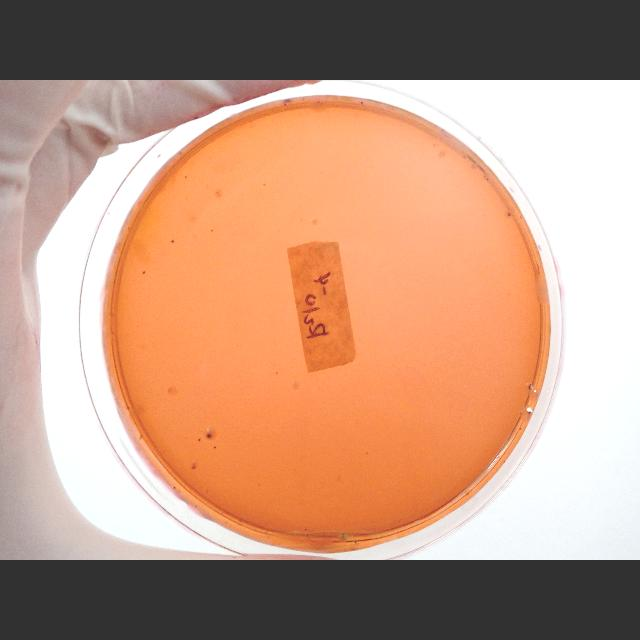colony: (205, 431, 212, 439), (138, 433, 144, 441), (506, 212, 512, 218), (190, 466, 198, 470), (213, 444, 217, 450), (341, 532, 345, 538), (528, 383, 532, 389), (360, 100, 364, 106), (170, 239, 176, 243), (262, 182, 268, 186), (185, 174, 188, 180), (197, 438, 201, 442), (304, 528, 308, 532), (306, 533, 310, 537), (353, 540, 357, 544), (518, 427, 522, 431), (210, 228, 214, 232), (275, 371, 279, 375), (126, 406, 130, 410), (142, 270, 146, 274), (192, 461, 196, 465), (195, 504, 198, 508), (174, 486, 176, 490), (486, 178, 488, 182), (284, 103, 286, 107), (178, 152, 182, 154), (301, 218, 303, 222), (178, 490, 180, 492), (302, 98, 304, 100)
